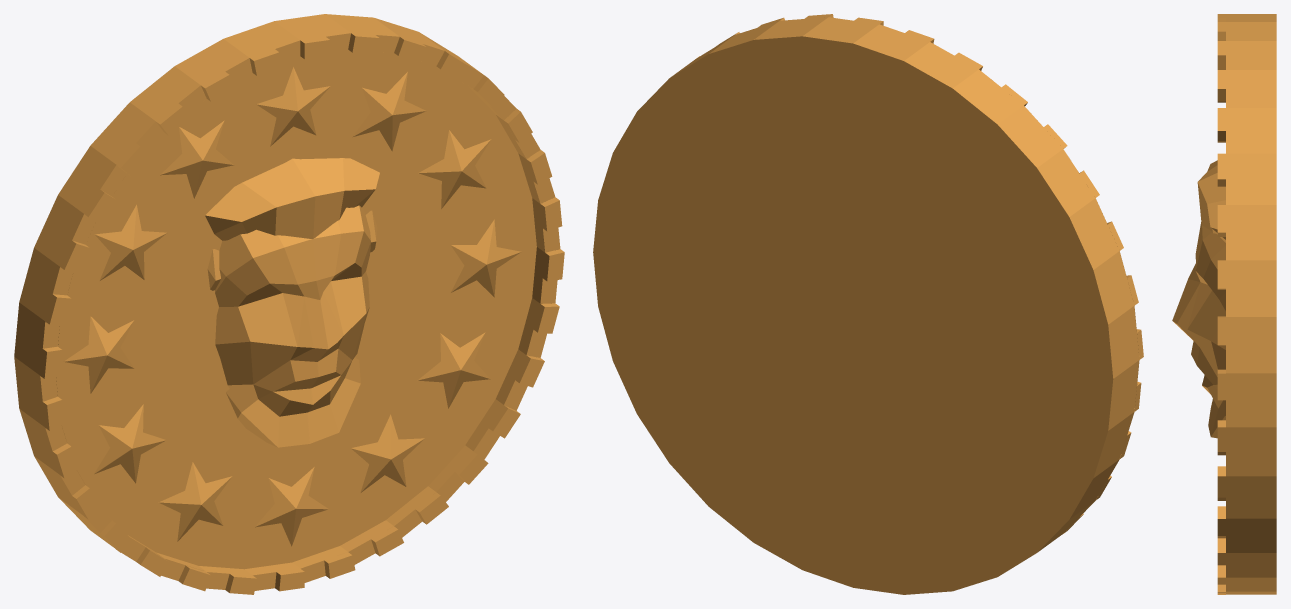
File: karl_coin.fbx
3 renders of one model, left to right at view 1: azimuth 30°, elevation 25°; view 2: azimuth 150°, elevation 25°; view 3: azimuth 270°, elevation 25°, orthographic. The views are drawn at different scales.
Parts seen in each view (by area): view 1: lpMaleG.001; view 2: lpMaleG.001; view 3: lpMaleG.001.
Boxes of the visible parts, left/top/right/bottom form: lpMaleG.001: left=14, top=14, right=564, bottom=594; lpMaleG.001: left=593, top=14, right=1143, bottom=594; lpMaleG.001: left=1172, top=14, right=1276, bottom=594.
Size of the model in its own units: 5 by 5 by 0.899.
